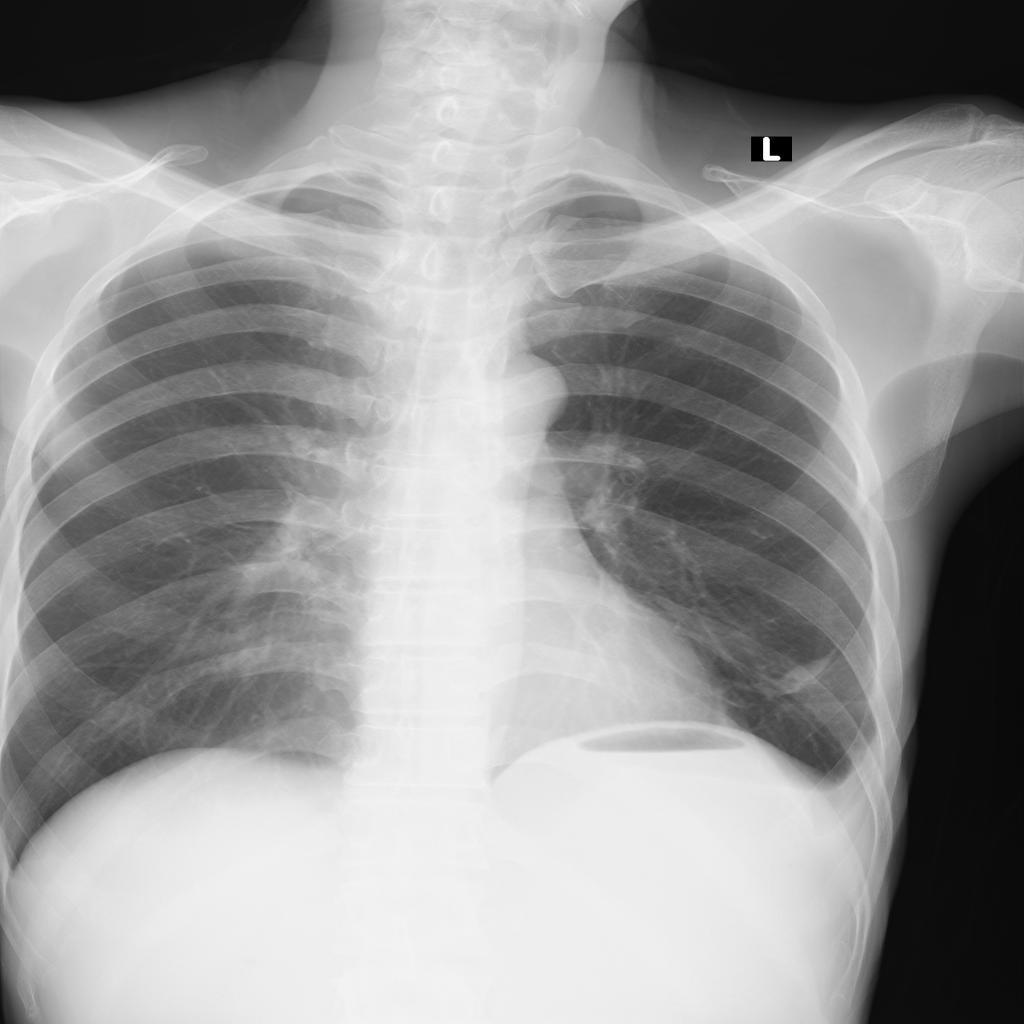Nodule: (765, 649, 844, 692)
